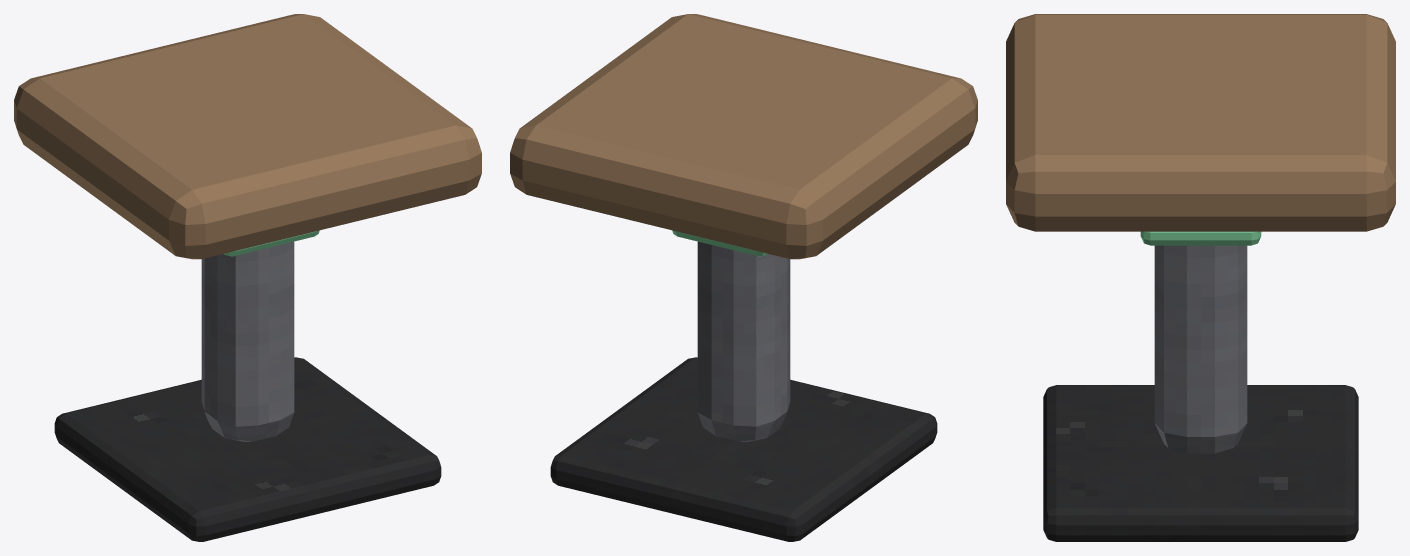
The model's file is decor_svc_bench.glb.
3 views of the same model, side by side, from view 1: azimuth 30°, elevation 25°; view 2: azimuth 150°, elevation 25°; view 3: azimuth 270°, elevation 25° (orthographic). The views are drawn at different scales.
Visible parts, largest first — view 1: DEC_SvcBench__Seat, DEC_SvcBench__Foot_Plate, DEC_SvcBench__Stem; view 2: DEC_SvcBench__Seat, DEC_SvcBench__Foot_Plate, DEC_SvcBench__Stem; view 3: DEC_SvcBench__Seat, DEC_SvcBench__Foot_Plate, DEC_SvcBench__Stem, DEC_SvcBench__Accent_Band.
Boxes of the visible parts, left/top/right/bottom form: DEC_SvcBench__Seat: left=14, top=14, right=481, bottom=259; DEC_SvcBench__Foot_Plate: left=54, top=357, right=441, bottom=541; DEC_SvcBench__Stem: left=201, top=241, right=294, bottom=441; DEC_SvcBench__Seat: left=510, top=14, right=977, bottom=259; DEC_SvcBench__Foot_Plate: left=550, top=357, right=937, bottom=541; DEC_SvcBench__Stem: left=697, top=241, right=790, bottom=441; DEC_SvcBench__Seat: left=1006, top=14, right=1395, bottom=231; DEC_SvcBench__Foot_Plate: left=1043, top=385, right=1358, bottom=541; DEC_SvcBench__Stem: left=1154, top=245, right=1247, bottom=453; DEC_SvcBench__Accent_Band: left=1140, top=231, right=1261, bottom=245.
Bounding box in the file's own units: 0.42 × 0.47 × 0.42.
Materials: 4 (2 with a texture image).
